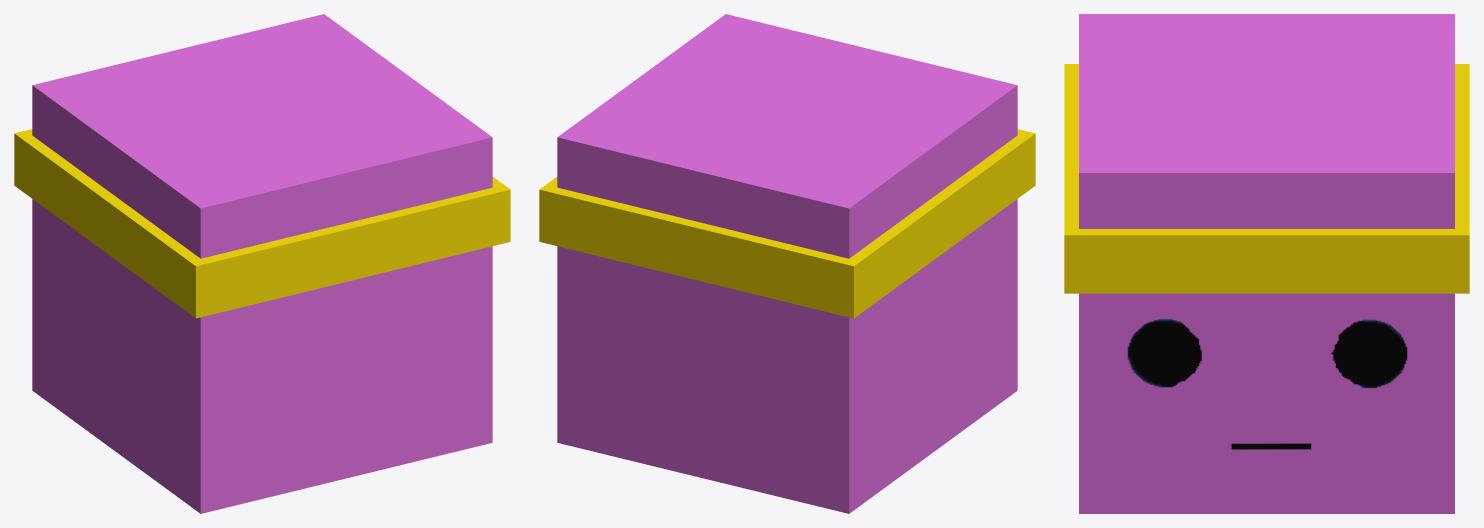
The model's file is pink_striker.fbx.
3 renders of one model, left to right at view 1: azimuth 30°, elevation 25°; view 2: azimuth 150°, elevation 25°; view 3: azimuth 270°, elevation 25°, orthographic. The views are drawn at different scales.
Parts seen in each view (by area): view 1: StrikerRed; view 2: StrikerRed; view 3: StrikerRed.
Boxes of the visible parts, box(x1,y1,x2,y2) form: StrikerRed: box(14, 14, 510, 513); StrikerRed: box(539, 14, 1035, 513); StrikerRed: box(1064, 14, 1469, 513).
Bounding box in the file's own units: 2.16 × 2 × 2.16.
